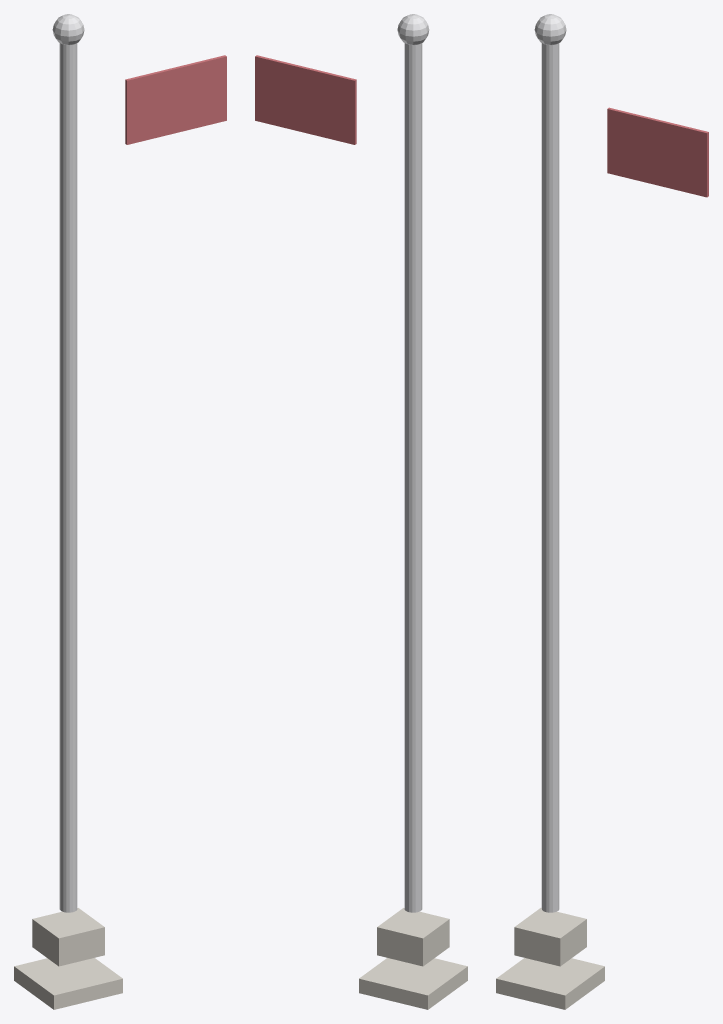
Rendered from flagpole.glb.
3 views of the same model, side by side, from view 1: azimuth 30°, elevation 25°; view 2: azimuth 150°, elevation 25°; view 3: azimuth 330°, elevation 25° (orthographic).
Parts seen in each view (by area): view 1: Flagpole; view 2: Flagpole; view 3: Flagpole.
Boxes of the visible parts, bbox=[...] form: Flagpole: bbox=[14, 14, 226, 1009]; Flagpole: bbox=[255, 14, 467, 1009]; Flagpole: bbox=[496, 14, 708, 1009].
Size of the model in its own units: 1.25 by 6.05 by 0.45.
